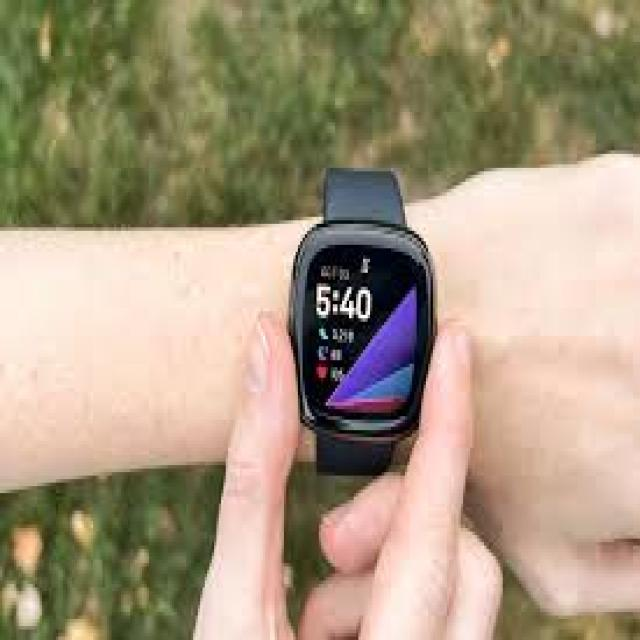objects: (289, 168, 437, 479)
